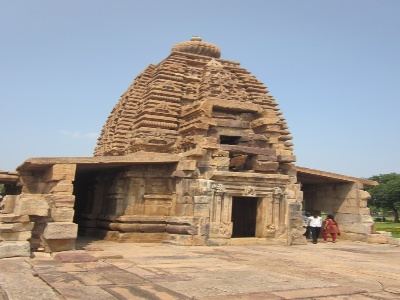amalaka: (157, 32, 232, 64)
gopuram: (103, 51, 300, 162)
